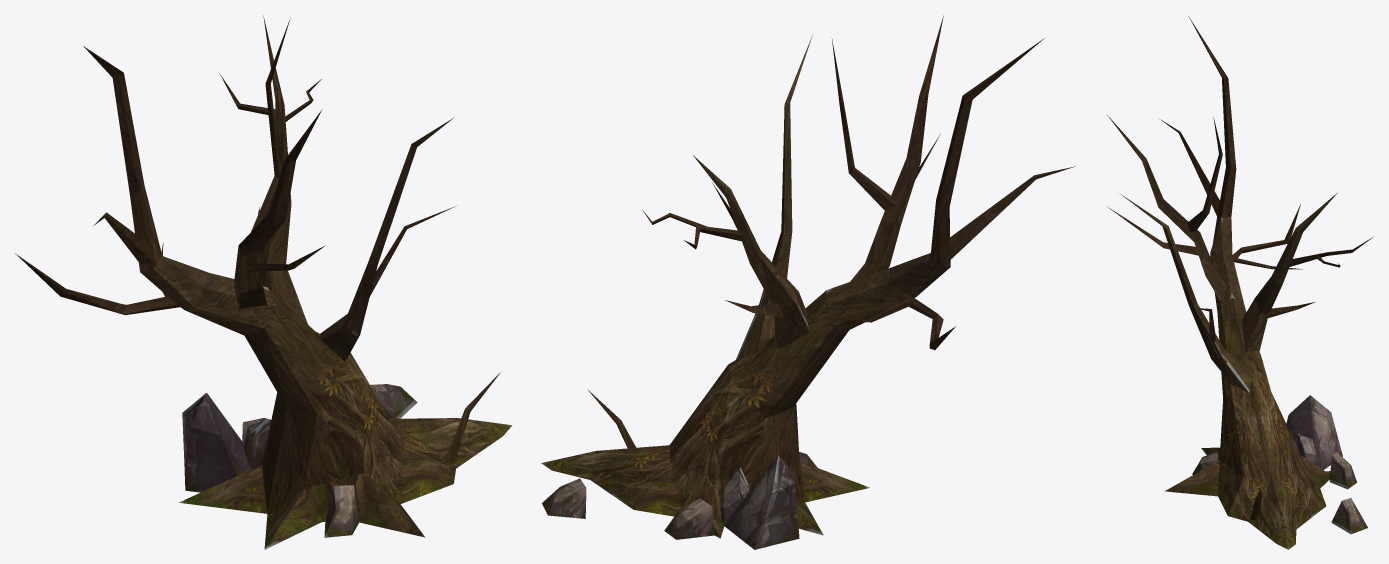
File: Yland1_sg_06 Yland1.FBX
3 renders of one model, left to right at view 1: azimuth 30°, elevation 25°; view 2: azimuth 150°, elevation 25°; view 3: azimuth 270°, elevation 25°, orthographic. The views are drawn at different scales.
Visible parts, largest first — view 1: Yland1_sg_06 Yland1; view 2: Yland1_sg_06 Yland1; view 3: Yland1_sg_06 Yland1.
Part boxes in pixels (x1=…): Yland1_sg_06 Yland1: x1=15, y1=15, x2=512, y2=549; Yland1_sg_06 Yland1: x1=541, y1=16, x2=1075, y2=549; Yland1_sg_06 Yland1: x1=1107, y1=16, x2=1372, y2=549.
Bounding box in the file's own units: 4.12 × 4.24 × 2.79.
